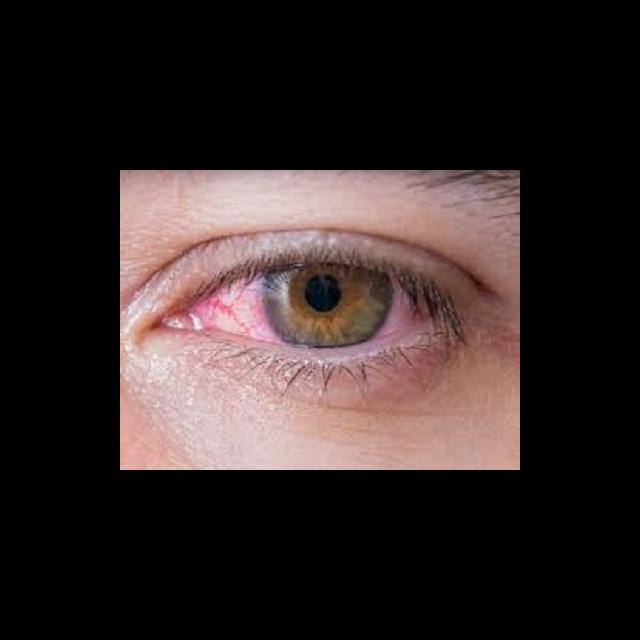eye: (193, 262, 452, 353)
iris: (265, 267, 392, 346)
